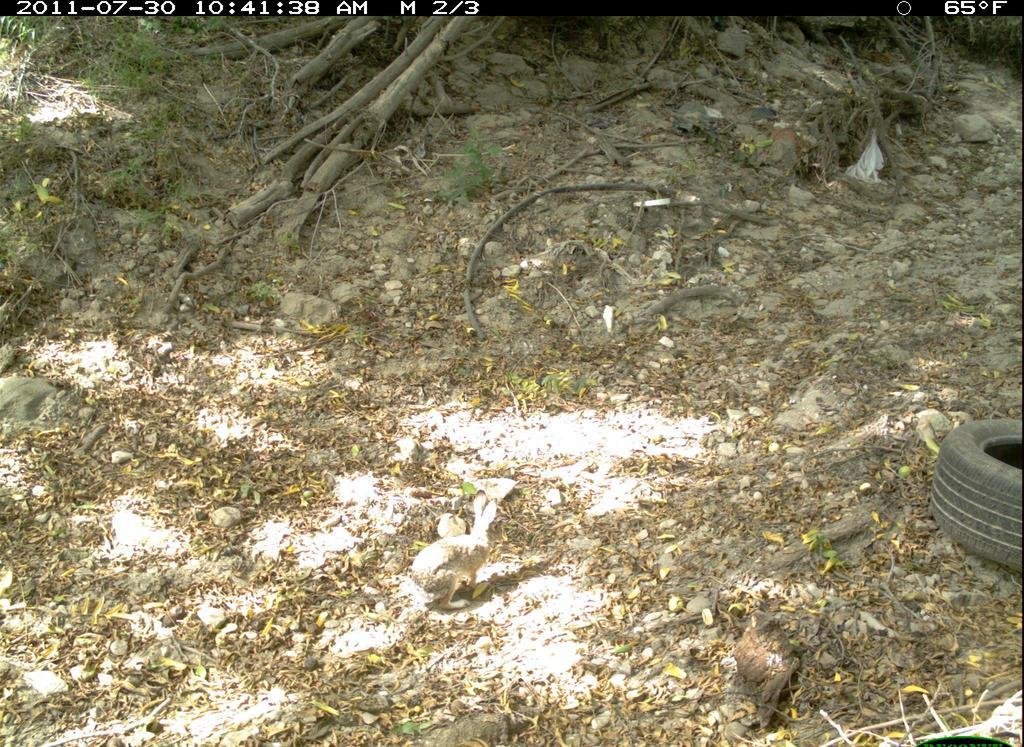rabbit: (401, 493, 505, 623)
